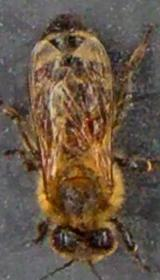varroa_mite: (82, 118, 108, 142)
